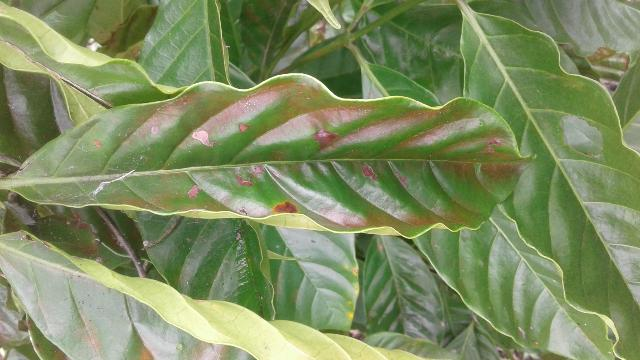red_spider_mite: (9, 74, 534, 240)
